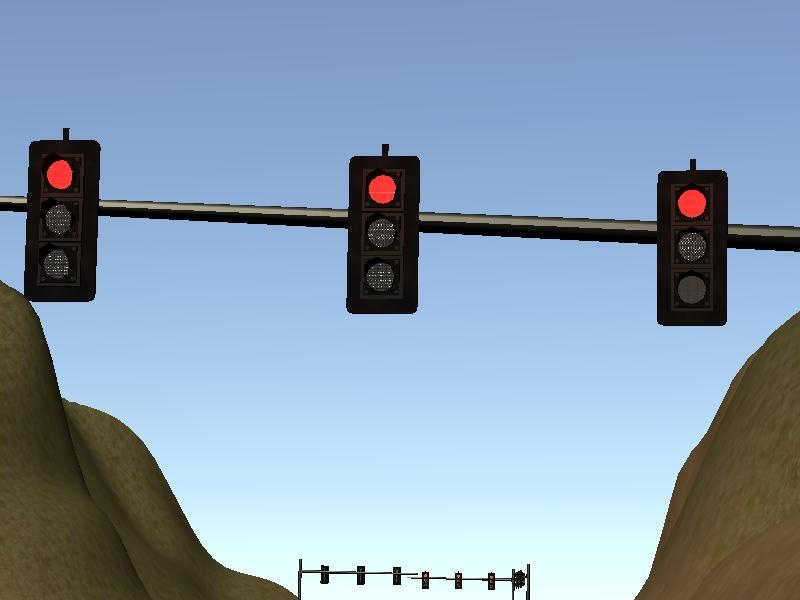RED: (24, 139, 100, 302), (345, 153, 421, 316), (655, 170, 728, 327)
